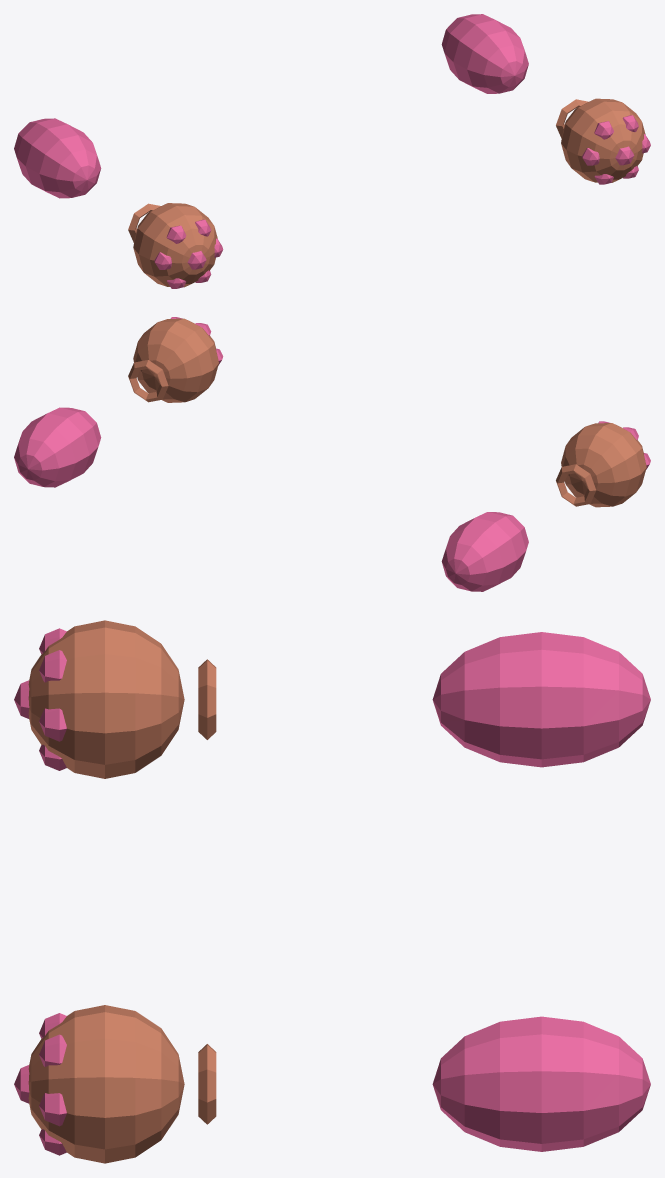
File: earrings.obj
3 views of the same model, one above another, from view 1: azimuth 30°, elevation 25°; view 2: azimuth 150°, elevation 25°; view 3: azimuth 270°, elevation 25° (orthographic). The views are drawn at different scales.
Bounding box in the file's own units: 0.094 × 0.014 × 0.056.
